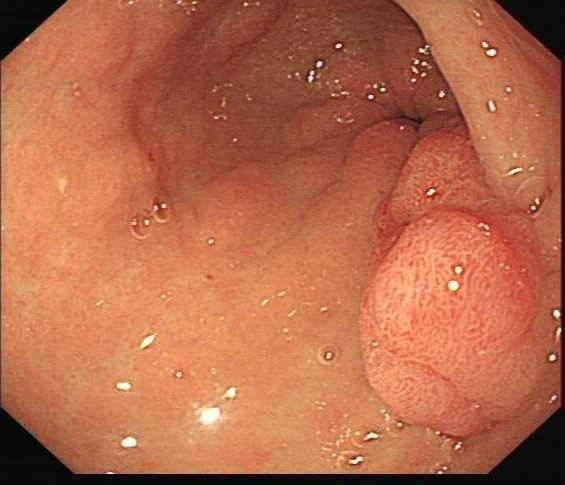Polyp: (358, 207, 539, 439)
